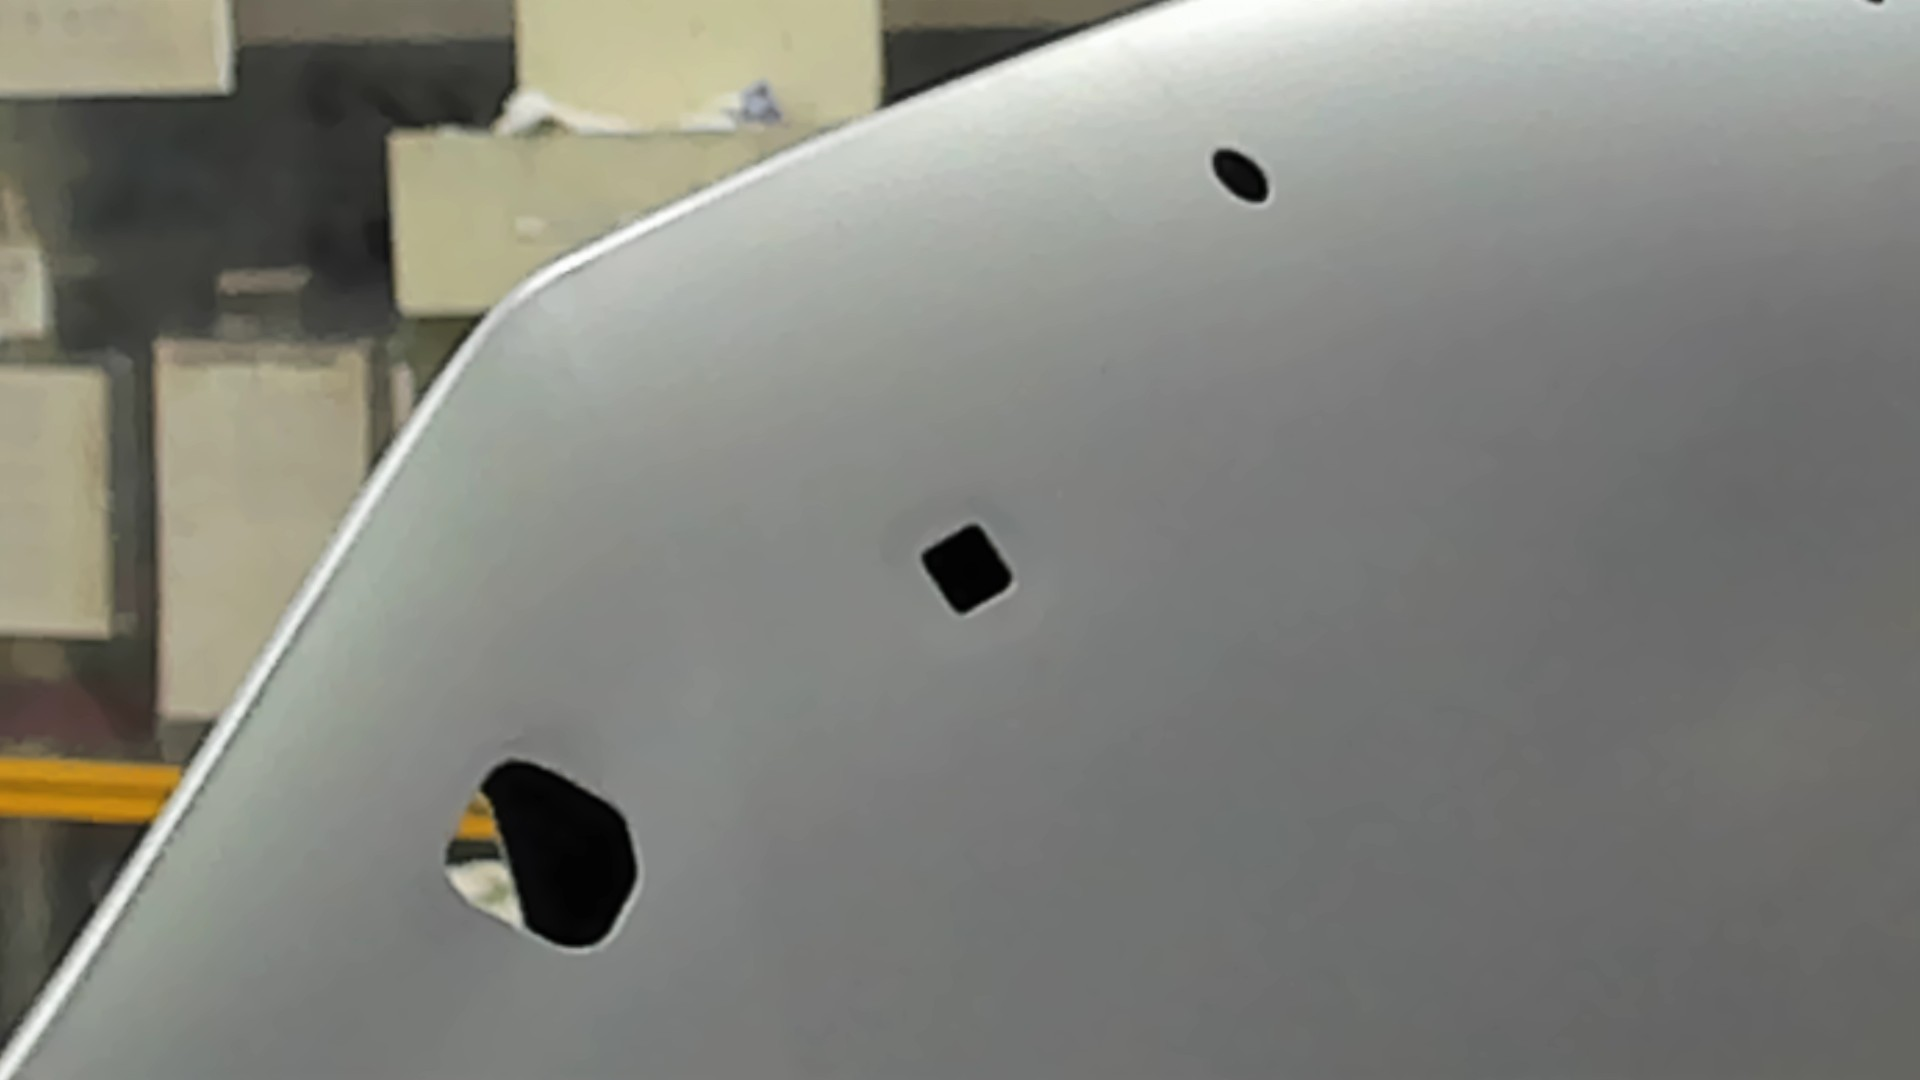chico: (1207, 142, 1274, 210)
grande: (434, 754, 645, 963)
mediano: (911, 518, 1023, 622)
